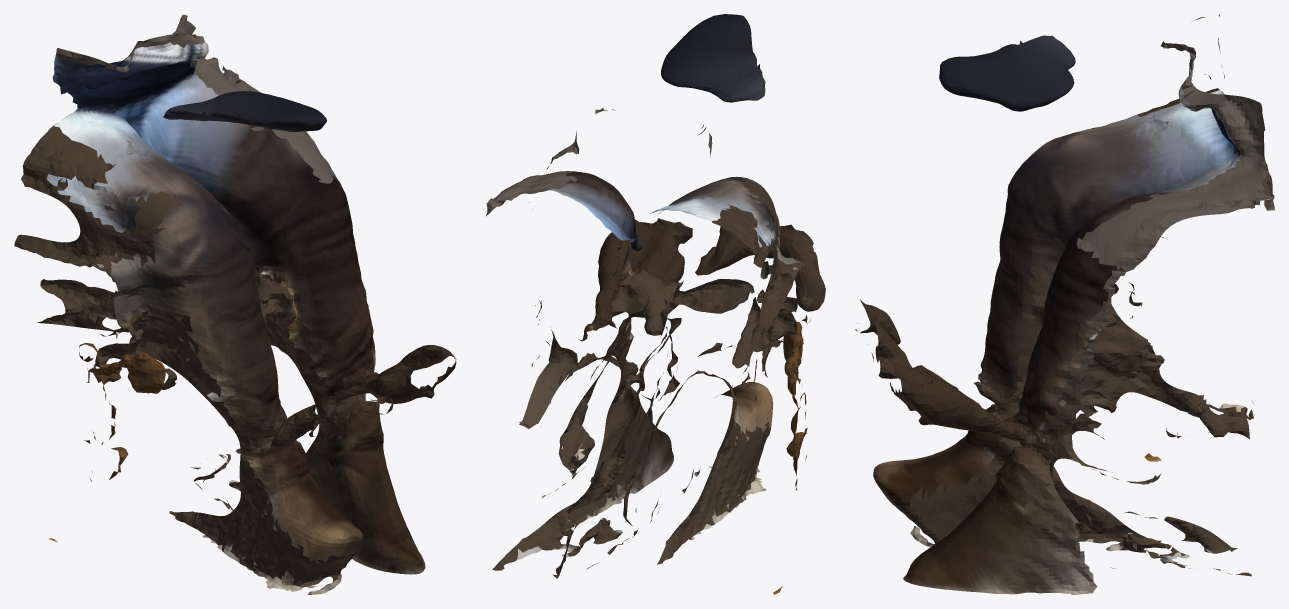
3 views of the same model, side by side, from view 1: azimuth 30°, elevation 25°; view 2: azimuth 150°, elevation 25°; view 3: azimuth 270°, elevation 25° (orthographic).
Bounding box in the file's own units: 0.4855 × 0.7201 × 0.5863.
Materials: 1 (1 with a texture image).
